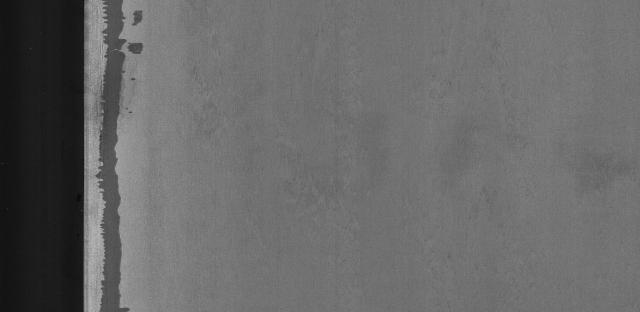oil_spot: (91, 0, 160, 311)
